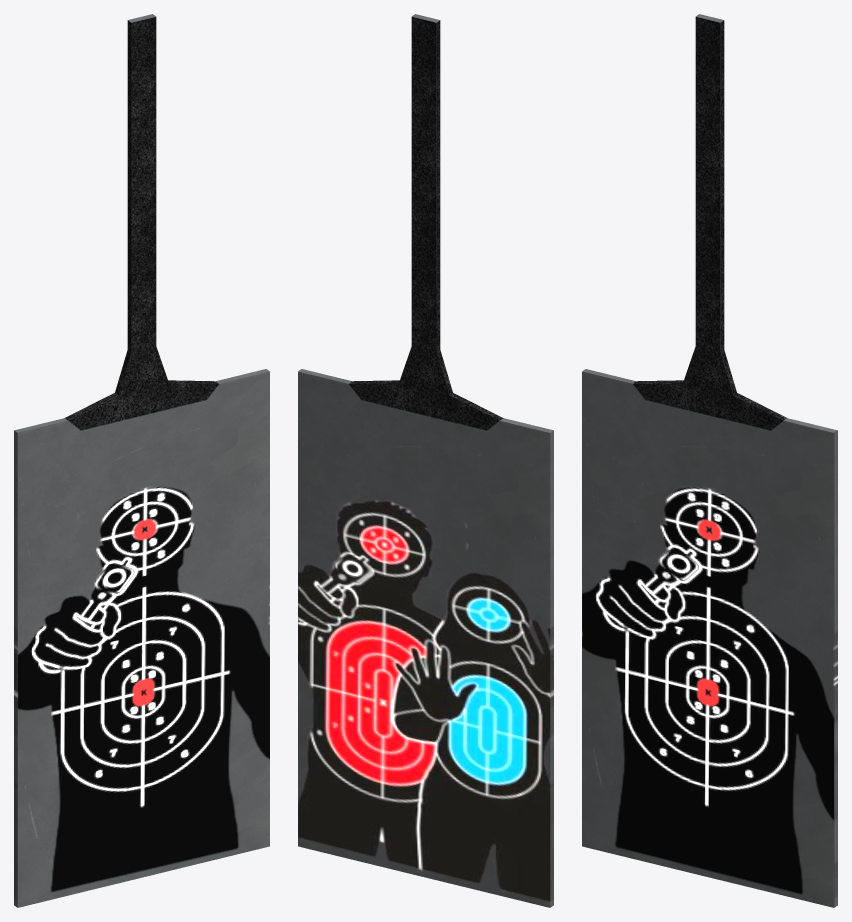
File: shooting_range_target.glb
The picture shows the model from 3 angles, left to right: view 1: azimuth 30°, elevation 25°; view 2: azimuth 150°, elevation 25°; view 3: azimuth 330°, elevation 25°; orthographic projection.
Parts seen in each view (by area): view 1: trgt3; view 2: trgt3; view 3: trgt3.
Part boxes in pixels (bbox=[...]): trgt3: bbox=[14, 14, 269, 907]; trgt3: bbox=[298, 14, 553, 907]; trgt3: bbox=[582, 14, 837, 907].
Size of the model in its own units: 40 by 130 by 1.
1 material, 1 textured.
